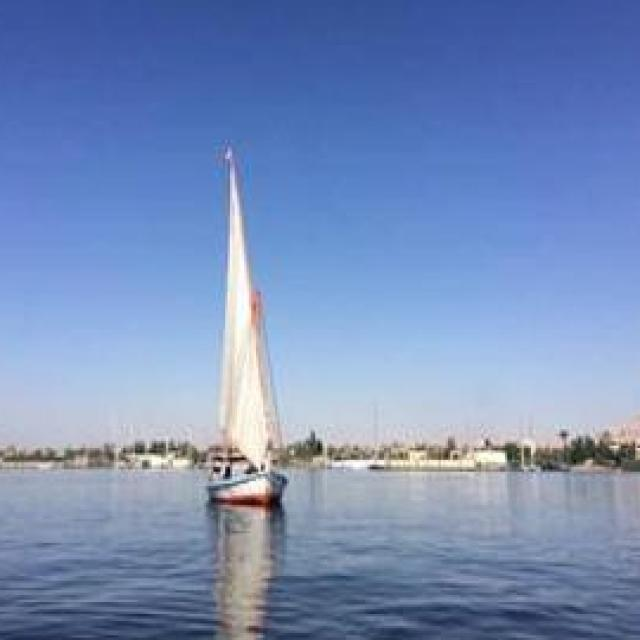sailboat: (190, 144, 300, 506)
